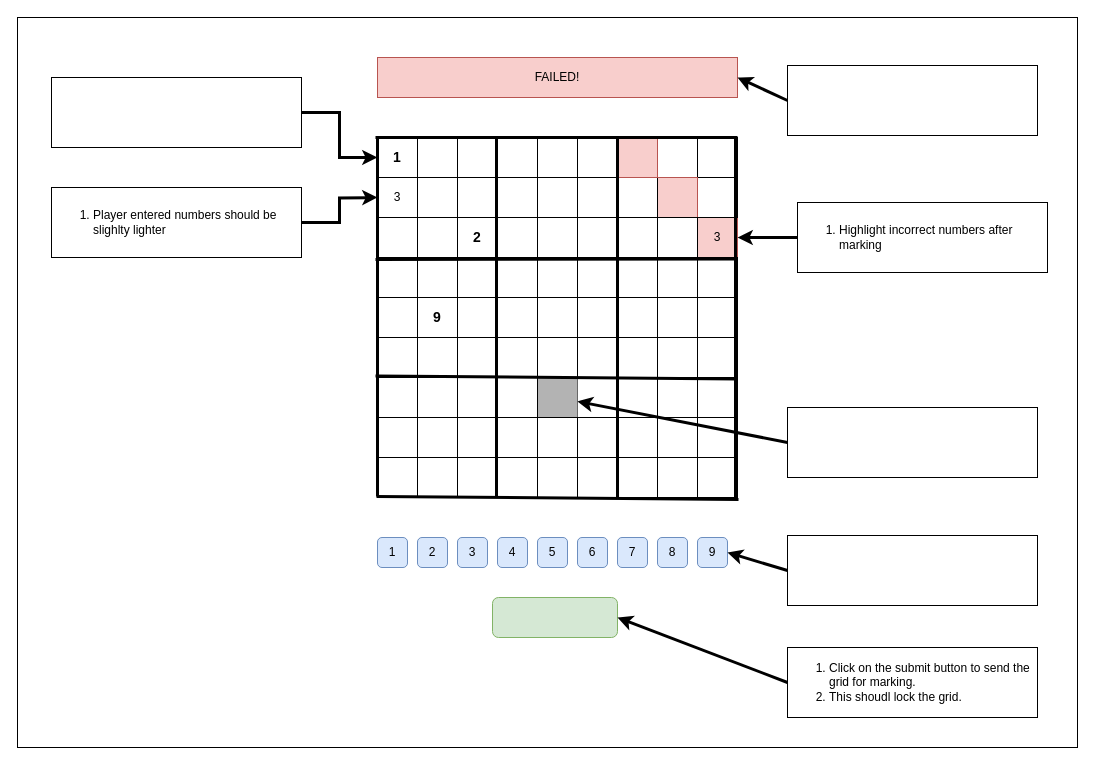
This 1095x765 diagram has some shape labels left out. The shapes that lost their labels are listed below. From the top down, each one's centre as x and y in pixels, then its label:
(176,112): Pre-generated numbers should be bold
(912,100): Show messages here
(912,442): 1. Click on a box to select it. The currently selected box shoudl go grey
(912,570): Click on a number button to put that number in the selected square
(555,617): Submit
